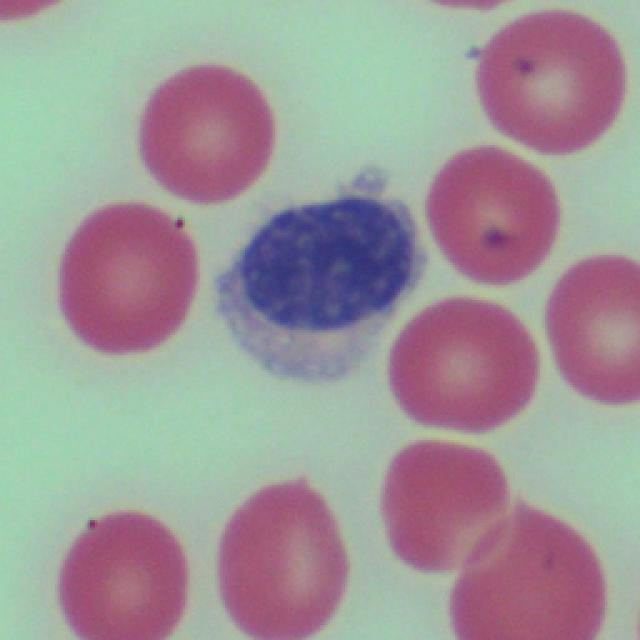RBC: (472, 7, 630, 163), (54, 196, 196, 365), (207, 474, 347, 640), (382, 290, 532, 439), (454, 500, 610, 640), (133, 57, 275, 210), (422, 140, 560, 292), (372, 431, 509, 580), (54, 497, 192, 640), (538, 253, 637, 412)
WBC: (241, 182, 410, 355)
